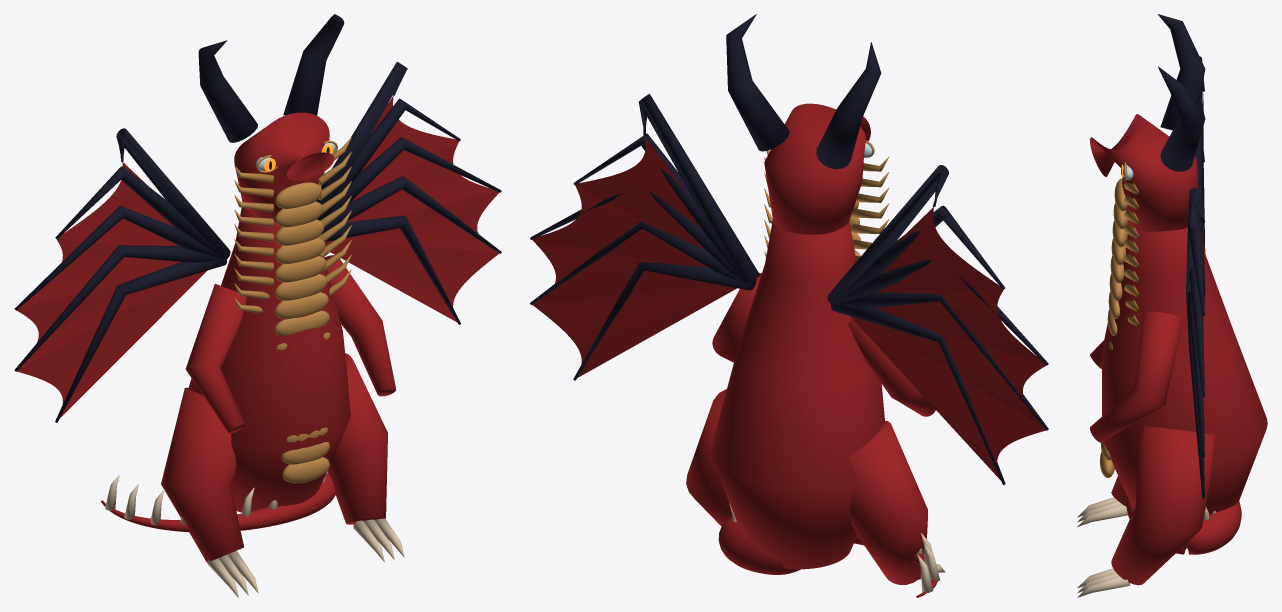
The model's file is ember-sovereign.glb.
3 views of the same model, side by side, from view 1: azimuth 30°, elevation 25°; view 2: azimuth 150°, elevation 25°; view 3: azimuth 270°, elevation 25° (orthographic). The views are drawn at different scales.
Visible parts, largest first — view 1: Ember Sovereign / red.001, Ember Sovereign / ink.001, Ember Sovereign / gold.001, Ember Sovereign / ivory.001; view 2: Ember Sovereign / red.001, Ember Sovereign / ink.001, Ember Sovereign / gold.001, Ember Sovereign / ivory.001; view 3: Ember Sovereign / red.001, Ember Sovereign / ink.001, Ember Sovereign / gold.001, Ember Sovereign / ivory.001.
Boxes of the visible parts, <box> form: Ember Sovereign / red.001: <box>17,96,499,562</box>; Ember Sovereign / ink.001: <box>14,14,501,422</box>; Ember Sovereign / gold.001: <box>234,137,351,483</box>; Ember Sovereign / ivory.001: <box>105,471,404,597</box>; Ember Sovereign / red.001: <box>532,103,1046,597</box>; Ember Sovereign / ink.001: <box>530,14,1048,484</box>; Ember Sovereign / gold.001: <box>764,140,889,261</box>; Ember Sovereign / ivory.001: <box>729,503,945,592</box>; Ember Sovereign / red.001: <box>1090,94,1267,585</box>; Ember Sovereign / ink.001: <box>1121,14,1205,498</box>; Ember Sovereign / gold.001: <box>1100,133,1138,477</box>; Ember Sovereign / ivory.001: <box>1077,497,1216,597</box>.
Bounding box in the file's own units: 2.08 × 2.13 × 0.7094.
